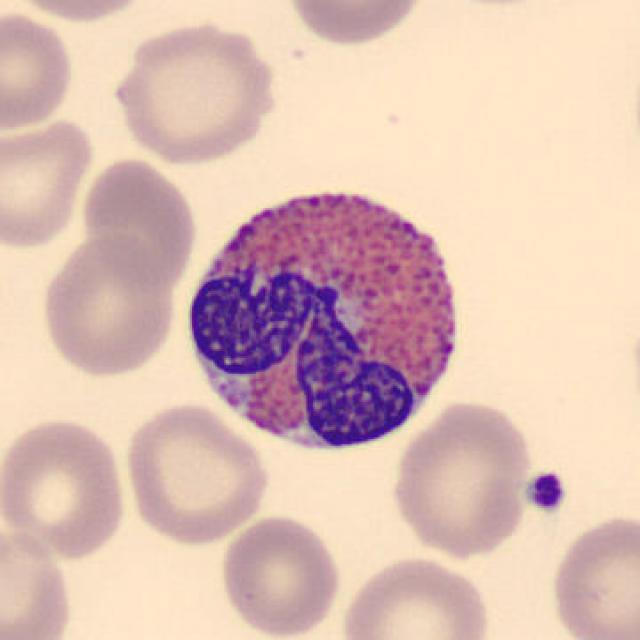Eosinophil: (173, 166, 477, 467)
Platelets: (523, 467, 569, 517)
RBC: (108, 18, 281, 166), (387, 397, 537, 560), (119, 398, 272, 546), (38, 231, 180, 379), (0, 412, 132, 562), (78, 153, 201, 294), (215, 512, 345, 638), (338, 552, 494, 640), (0, 113, 96, 254), (546, 509, 640, 640), (0, 7, 76, 134), (0, 523, 76, 640), (283, 0, 430, 48), (5, 0, 158, 26)
